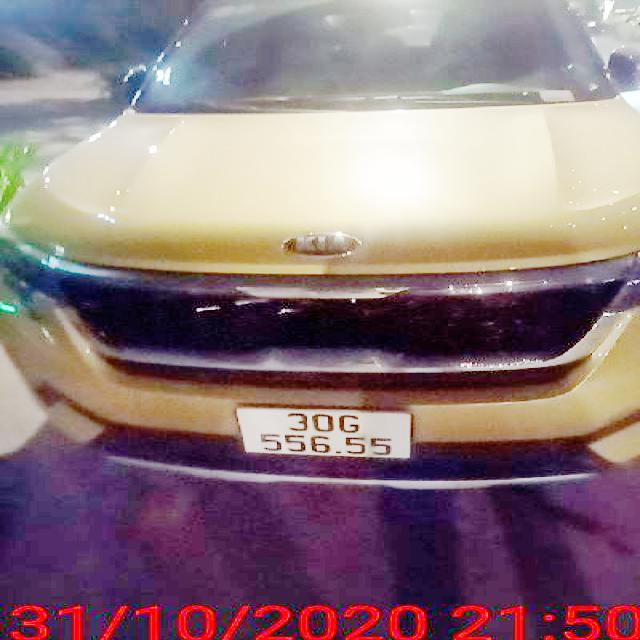license_plate: (237, 409, 412, 460)
